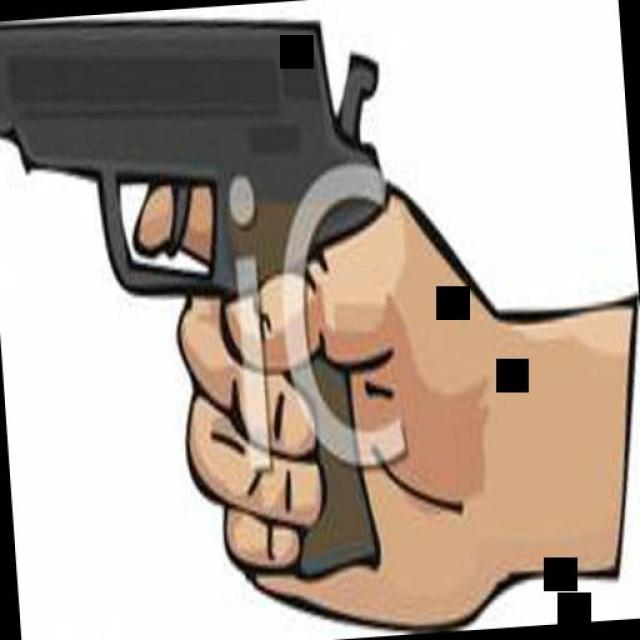gun: (0, 0, 410, 609)
